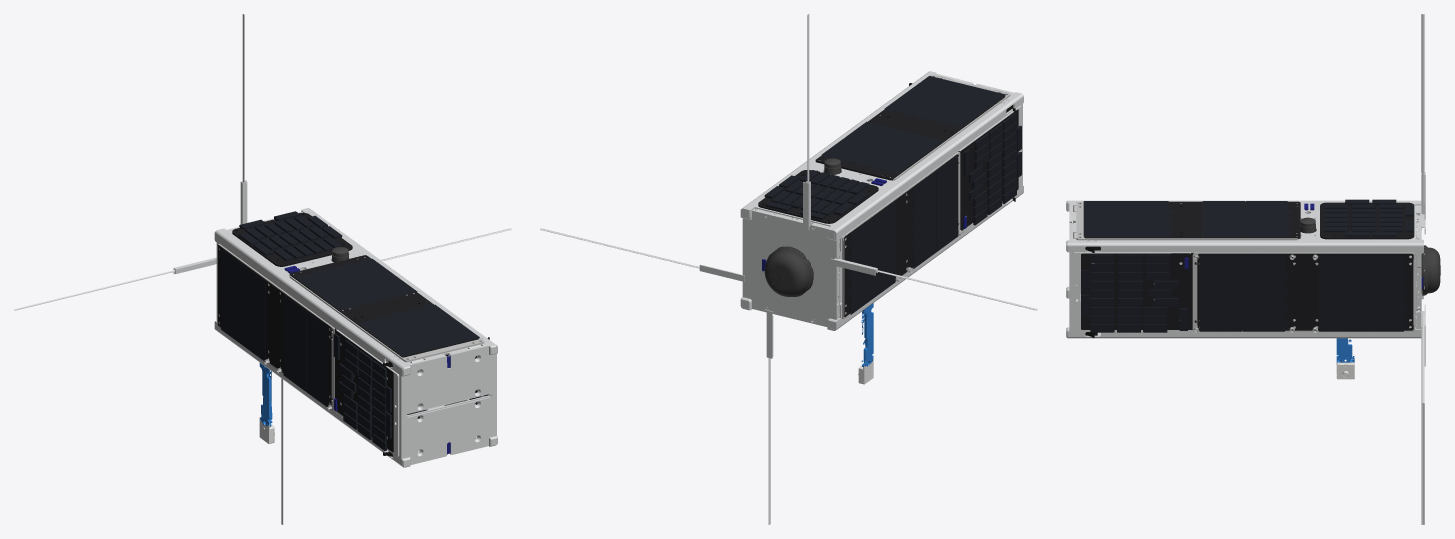
File: frontiersat-lite.glb
3 views of the same model, side by side, from view 1: azimuth 30°, elevation 25°; view 2: azimuth 150°, elevation 25°; view 3: azimuth 270°, elevation 25° (orthographic). The views are drawn at different scales.
Parts seen in each view (by area): view 1: solar panels, structure, fasteners, UHF antenna tapes (deployed), UHF antenna hinges (deployed), magnetometer arm (deployable, deployed); view 2: solar panels, UHF antenna (deployed), structure, GNSS antenna, UHF antenna tapes (deployed), fasteners, UHF antenna hinges (deployed), magnetometer arm (deployable, deployed); view 3: solar panels, structure, fasteners, UHF antenna tapes (deployed), GNSS antenna, UHF antenna (deployed).
Boxes of the visible parts, x1,y1,x2,y2 form: solar panels: (217,211,488,452); structure: (214,208,497,467); fasteners: (217,243,484,411); UHF antenna tapes (deployed): (14,14,511,524); UHF antenna hinges (deployed): (173,180,247,274); magnetometer arm (deployable, deployed): (259,363,272,426); solar panels: (758,76,1021,317); UHF antenna (deployed): (742,208,839,326); structure: (740,71,1023,330); GNSS antenna: (764,246,813,296); UHF antenna tapes (deployed): (540,14,1037,524); fasteners: (819,75,1010,319); UHF antenna hinges (deployed): (699,181,877,358); magnetometer arm (deployable, deployed): (861,303,873,368); solar panels: (1081,199,1414,332); structure: (1066,200,1423,338); fasteners: (1076,202,1414,332); UHF antenna tapes (deployed): (1421,14,1424,524); GNSS antenna: (1421,245,1440,295); UHF antenna (deployed): (1415,205,1421,328).
Bounding box in the file's own units: 0.518 × 0.518 × 0.3564.
